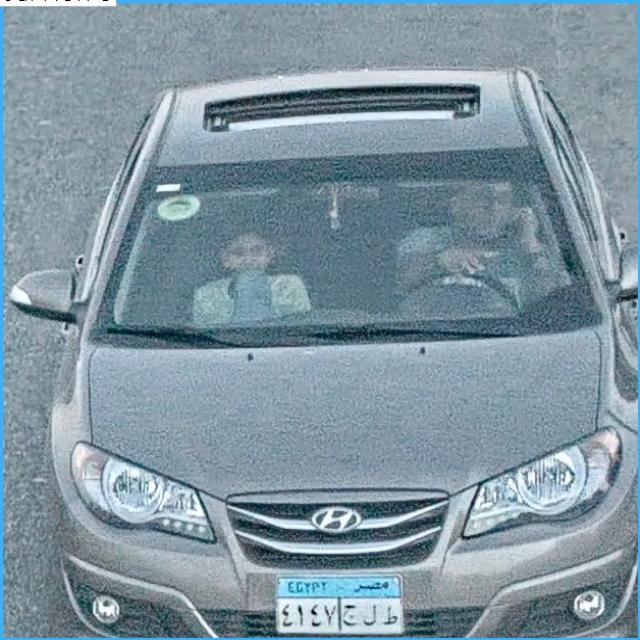windshield: (103, 154, 576, 341)
